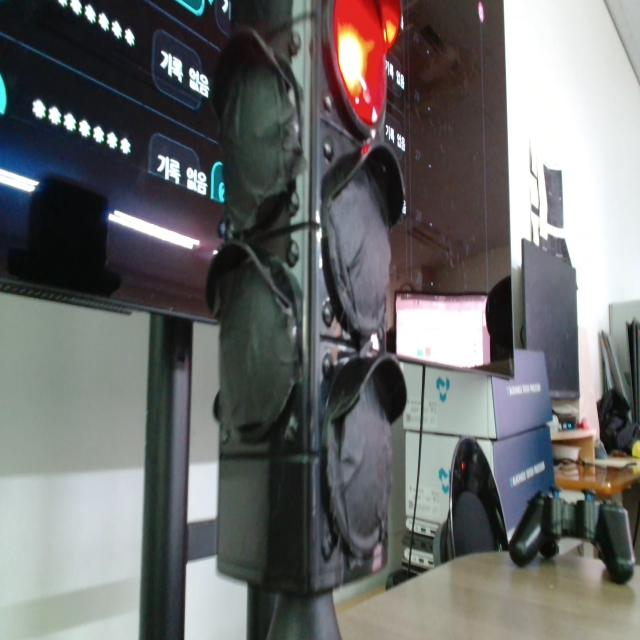green_light: (0, 75, 6, 114)
red_light: (334, 0, 387, 126), (379, 0, 401, 50)
